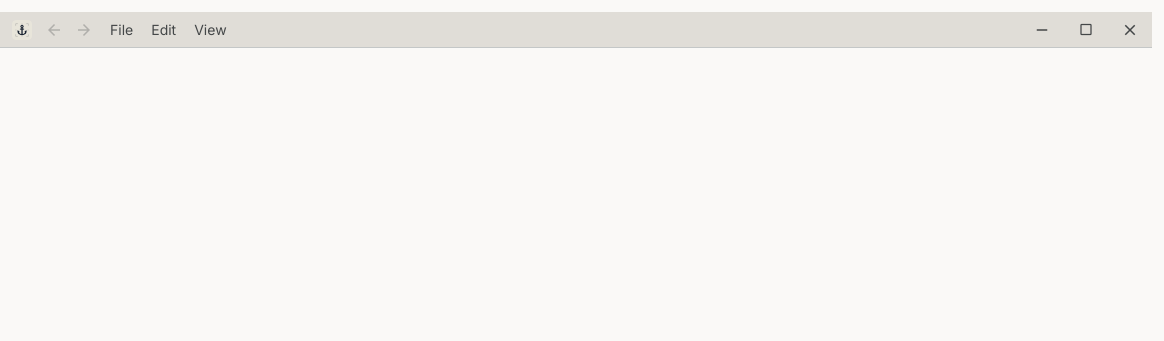
Test: <TitleBar /> › while the app is not showing its routes › keeps the Edit commands, disabling only the one that routes
The width and height of the screenshot is (1164, 341).
What coordinates should you click on to do the following:
click the button "Edit"
I would click on:
 (164, 30)
Its box is [143,16,184,44].
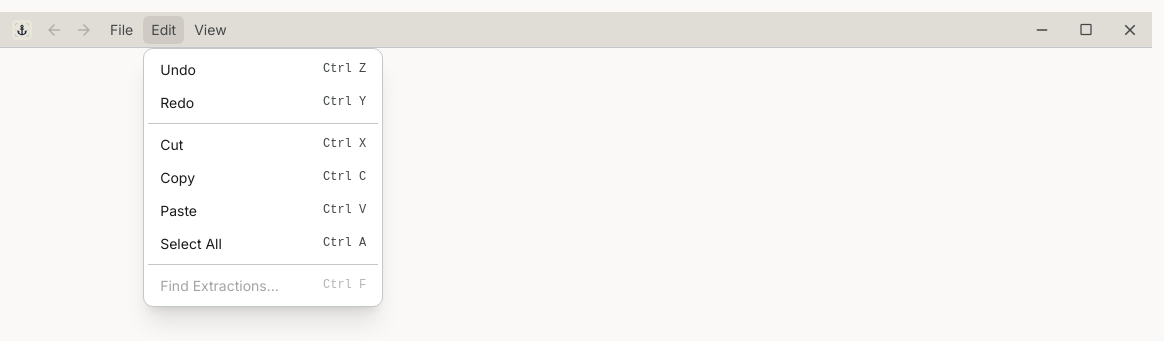
Result: the menu item "Select All Ctrl A" is enabled at [148,226,378,260]
Result: the menu item "Paste Ctrl V" is enabled at [148,194,378,226]
Result: the menu item "Find Extractions… Ctrl F" is disabled at [148,268,378,302]
